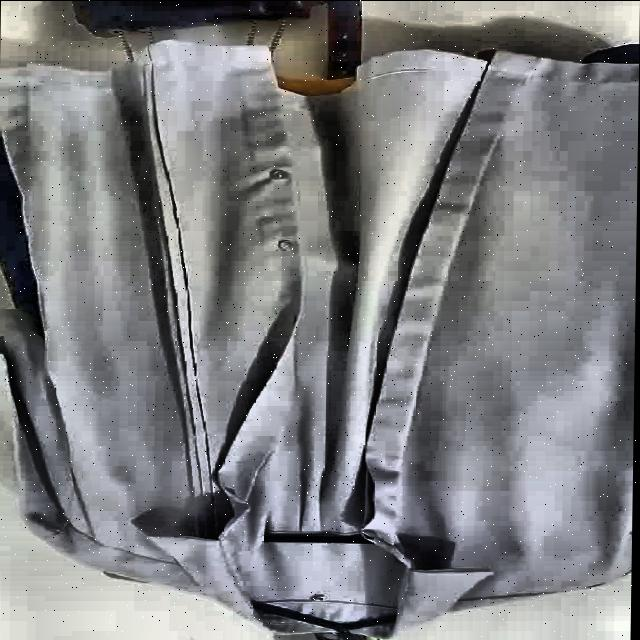clothes: (0, 23, 640, 640)
